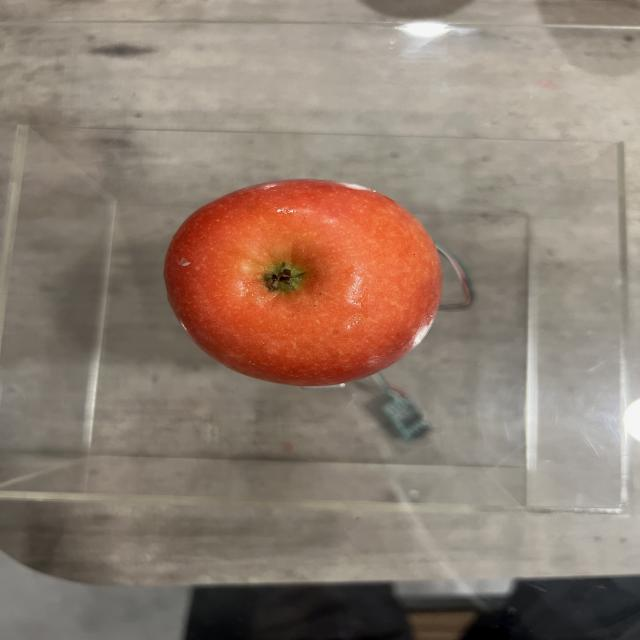red apple: (162, 178, 446, 381)
